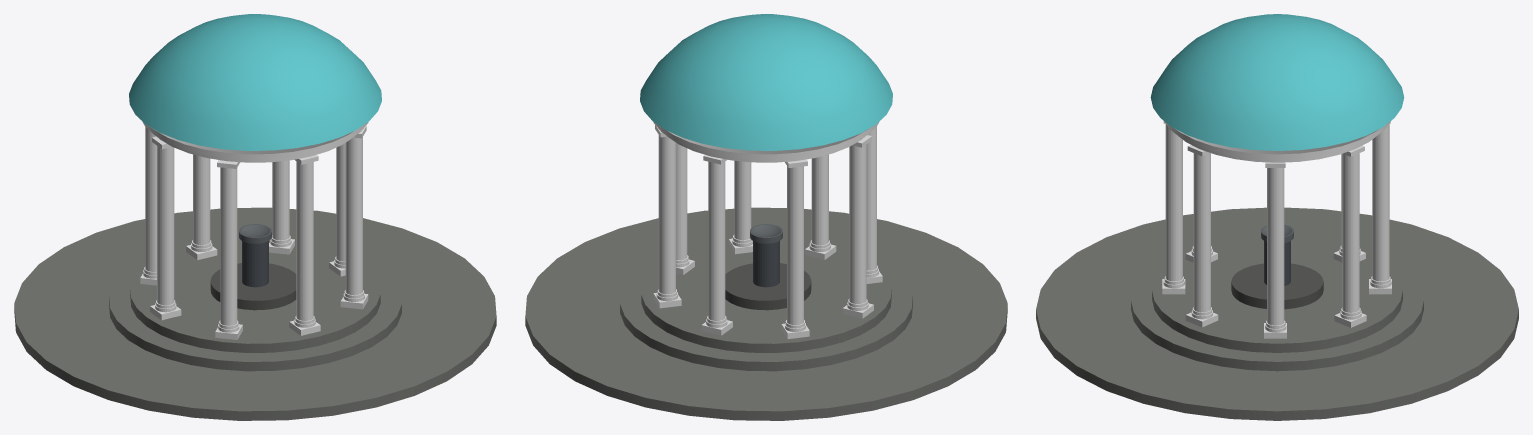
File: oldWell.glb
3 renders of one model, left to right at view 1: azimuth 30°, elevation 25°; view 2: azimuth 150°, elevation 25°; view 3: azimuth 270°, elevation 25°, orthographic.
Parts seen in each view (by area): view 1: Platform3, Top-cap, Platform1, Platform2, Pillar1-cylinder, Pillar3-cylinder, Pillar2-cylinder, Pillar8-cylinder, Well-platform, Pillar4-cylinder, Pillar5-cylinder, Pillar6-cylinder (+6 smaller); view 2: Platform3, Top-cap, Platform1, Platform2, Pillar5-cylinder, Pillar3-cylinder, Pillar6-cylinder, Pillar4-cylinder, Well-platform, Pillar1-cylinder, Pillar2-cylinder, Pillar8-cylinder (+6 smaller); view 3: Platform3, Top-cap, Platform1, Platform2, Pillar8-cylinder, Pillar6-cylinder, Pillar7-cylinder, Pillar5-cylinder, Pillar1-cylinder, Well-platform, Top-edge2, Top-edge1 (+1 smaller).
Part boxes in pixels (x1=…): Platform3: x1=14, y1=207, x2=496, y2=420; Top-cap: x1=129, y1=14, x2=381, y2=150; Platform1: x1=130, y1=238, x2=380, y2=352; Platform2: x1=109, y1=240, x2=401, y2=371; Pillar1-cylinder: x1=296, y1=161, x2=313, y2=320; Pillar3-cylinder: x1=157, y1=146, x2=174, y2=305; Pillar2-cylinder: x1=220, y1=167, x2=237, y2=325; Pillar8-cylinder: x1=345, y1=137, x2=362, y2=295; Well-platform: x1=210, y1=263, x2=296, y2=310; Pillar4-cylinder: x1=145, y1=127, x2=156, y2=271; Pillar5-cylinder: x1=193, y1=154, x2=210, y2=245; Pillar6-cylinder: x1=272, y1=160, x2=289, y2=240; Platform3: x1=525, y1=207, x2=1007, y2=420; Top-cap: x1=640, y1=14, x2=892, y2=150; Platform1: x1=641, y1=238, x2=891, y2=352; Platform2: x1=620, y1=240, x2=912, y2=371; Pillar5-cylinder: x1=708, y1=161, x2=725, y2=320; Pillar3-cylinder: x1=849, y1=144, x2=866, y2=303; Pillar6-cylinder: x1=658, y1=135, x2=675, y2=294; Pillar4-cylinder: x1=787, y1=166, x2=803, y2=325; Well-platform: x1=725, y1=263, x2=811, y2=310; Pillar1-cylinder: x1=811, y1=154, x2=828, y2=245; Pillar2-cylinder: x1=866, y1=127, x2=876, y2=270; Pillar8-cylinder: x1=734, y1=160, x2=751, y2=240; Platform3: x1=1036, y1=207, x2=1518, y2=420; Top-cap: x1=1150, y1=14, x2=1404, y2=150; Platform1: x1=1152, y1=238, x2=1402, y2=352; Platform2: x1=1131, y1=239, x2=1423, y2=371; Pillar8-cylinder: x1=1193, y1=153, x2=1210, y2=312; Pillar6-cylinder: x1=1342, y1=153, x2=1359, y2=312; Pillar7-cylinder: x1=1267, y1=168, x2=1284, y2=325; Pillar5-cylinder: x1=1372, y1=124, x2=1389, y2=281; Pillar1-cylinder: x1=1165, y1=124, x2=1182, y2=281; Well-platform: x1=1231, y1=263, x2=1323, y2=309; Top-edge2: x1=1164, y1=121, x2=1390, y2=159; Top-edge1: x1=1176, y1=129, x2=1378, y2=154.
Bounding box in the file's own units: 18.54 × 12.34 × 18.54.
